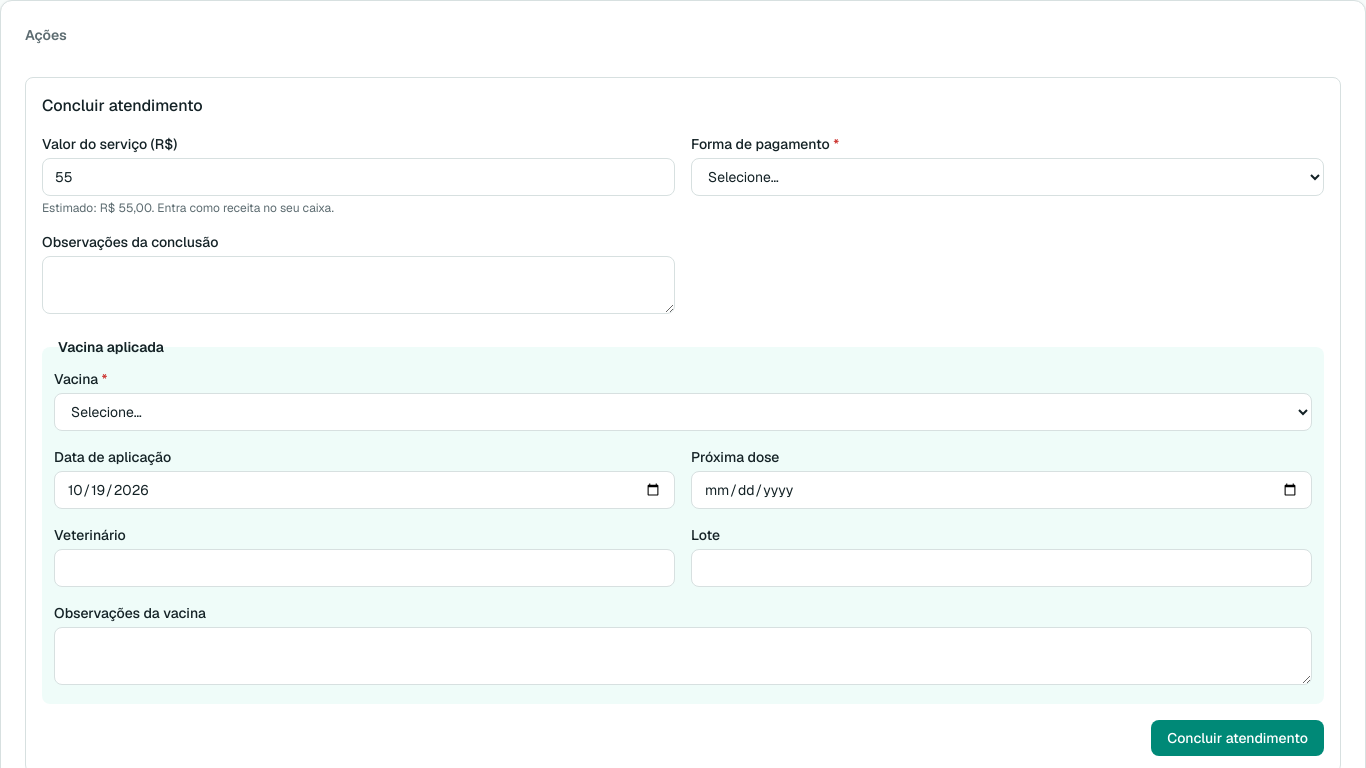
Scenario: Conclusão de vacinação › exibeErroDeVacinaDaApi
Step 1. Select "Raiva (Antirrábica Canina)" in the dropdown labelled "Vacina *" → (683, 412), box [54, 393, 1312, 431]
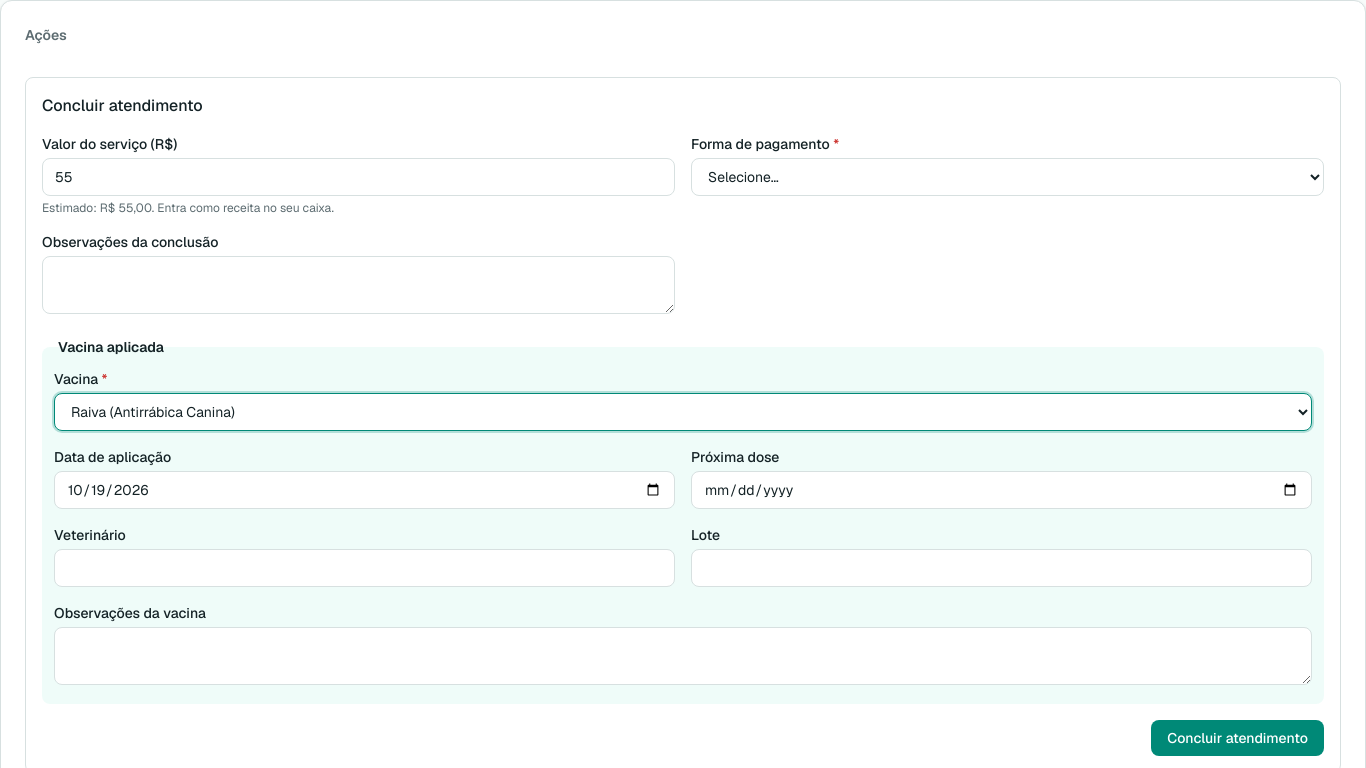
Step 2. Click the button "Concluir atendimento" → (1238, 738), box [1151, 720, 1324, 756]
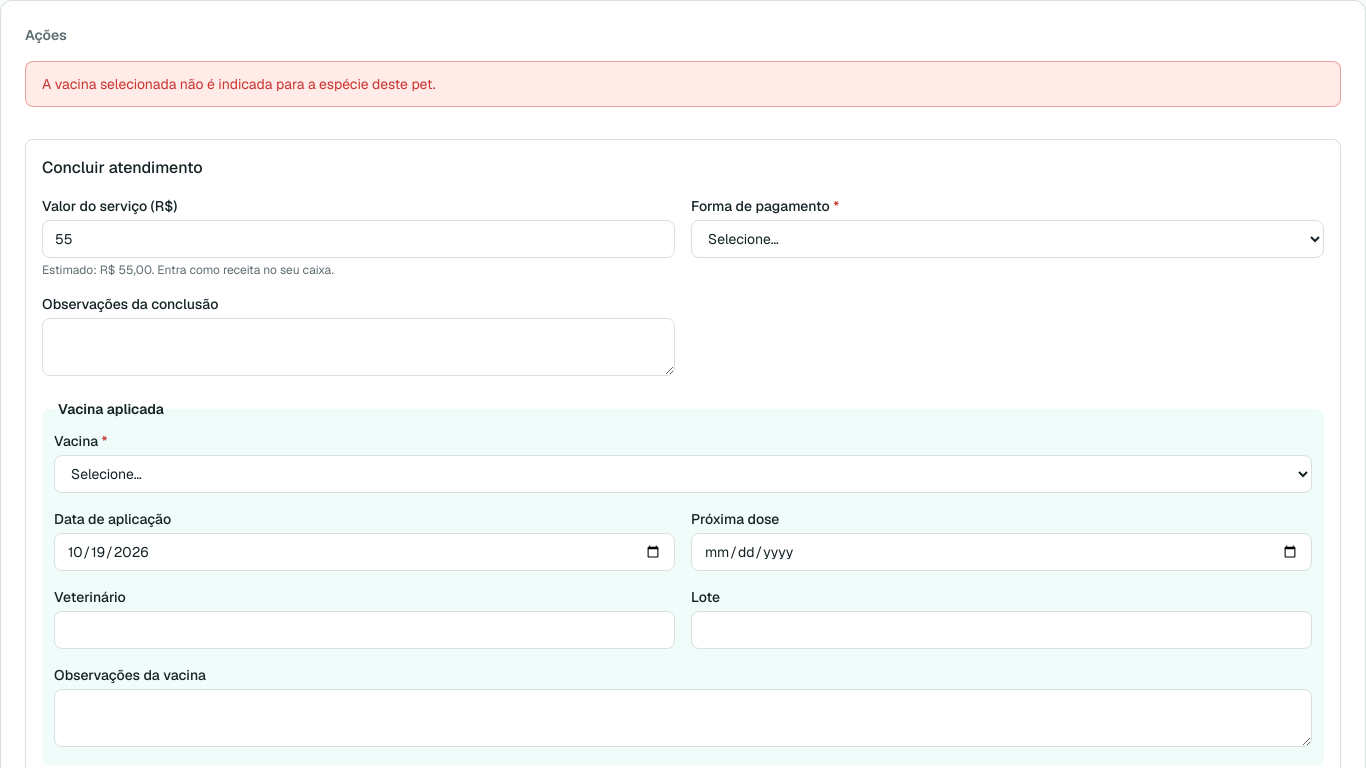
Expected: the text "A vacina selecionada não é indicada para a espécie deste pet." is shown, [25, 61, 1341, 107]
